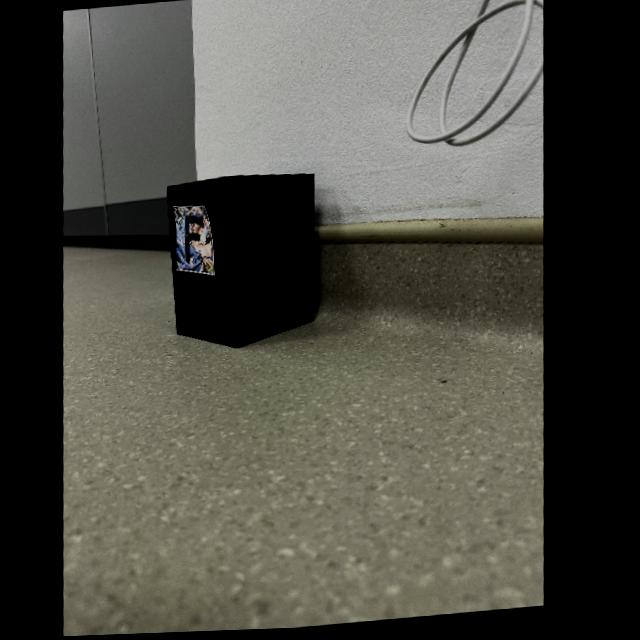F: (188, 218, 205, 264)
